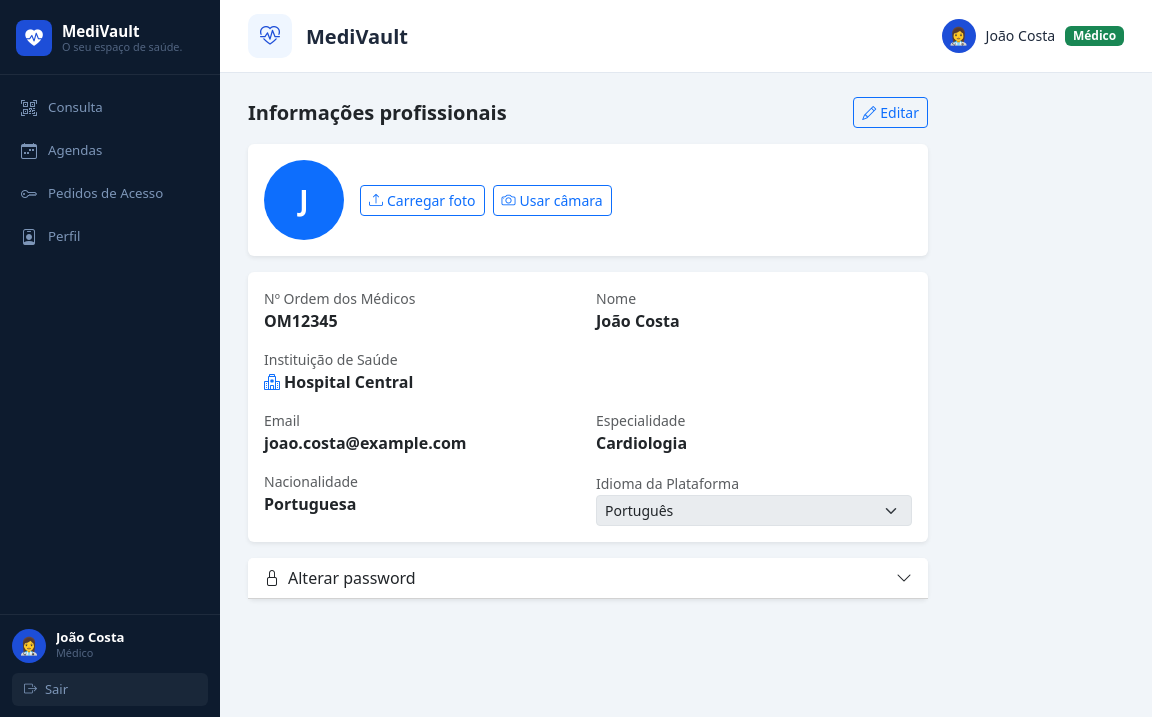
Test: DoctorProfilePage › logs the doctor out shortly after a successful password change
Expected: the text "Hospital Central" is shown, x1=264 y1=370 x2=413 y2=394
Click the text "Alterar password" at (340, 578), box x1=264 y1=566 x2=416 y2=590
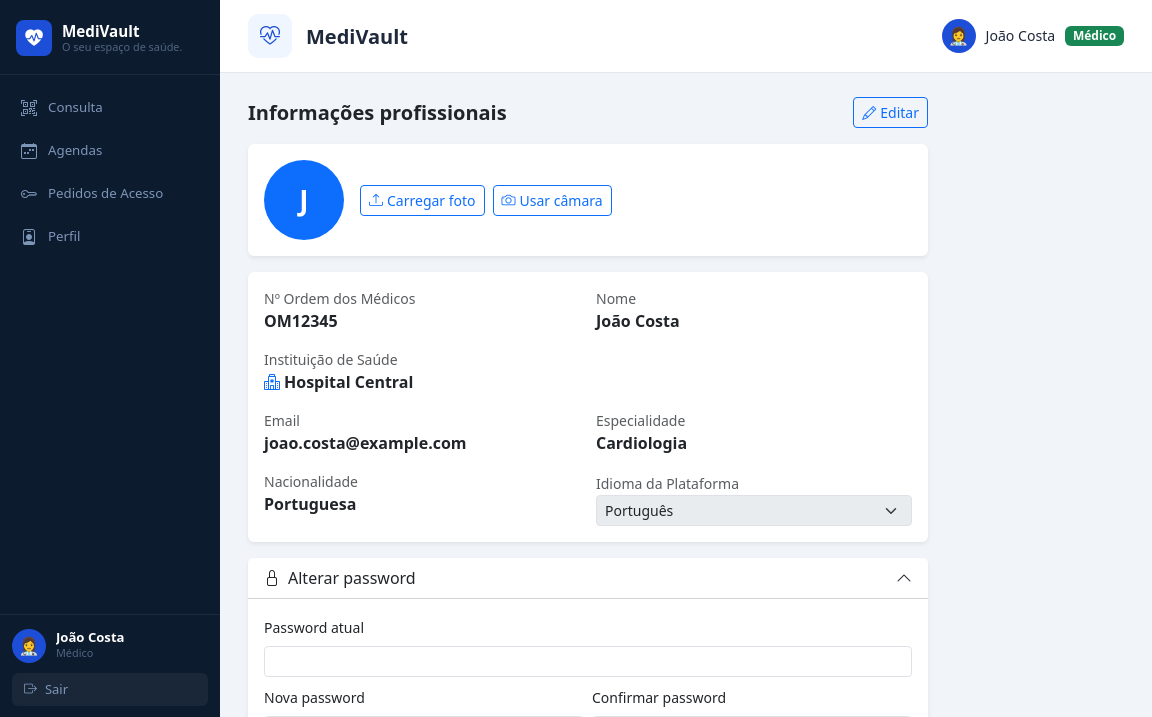
Type "old-password" into the password field below "Password atual" at (588, 662), box x1=264 y1=646 x2=912 y2=677
(page scrolled)
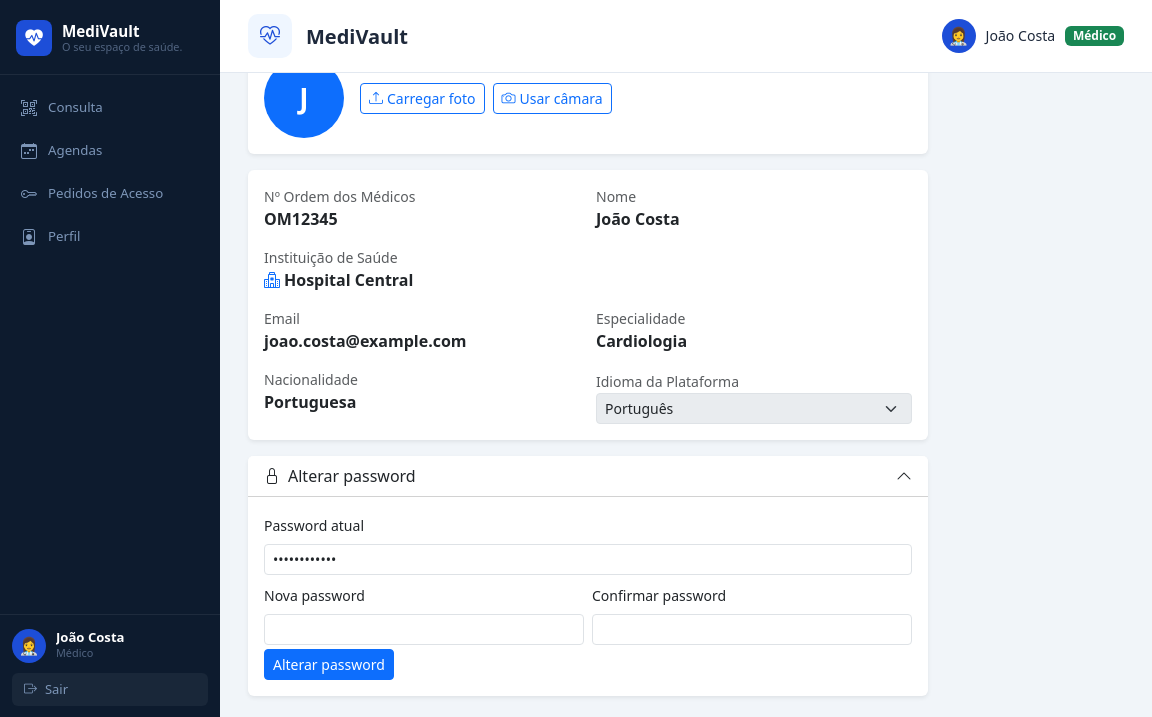
Type "new-password" into the password field below "Nova password" at (424, 630), box x1=264 y1=614 x2=584 y2=645
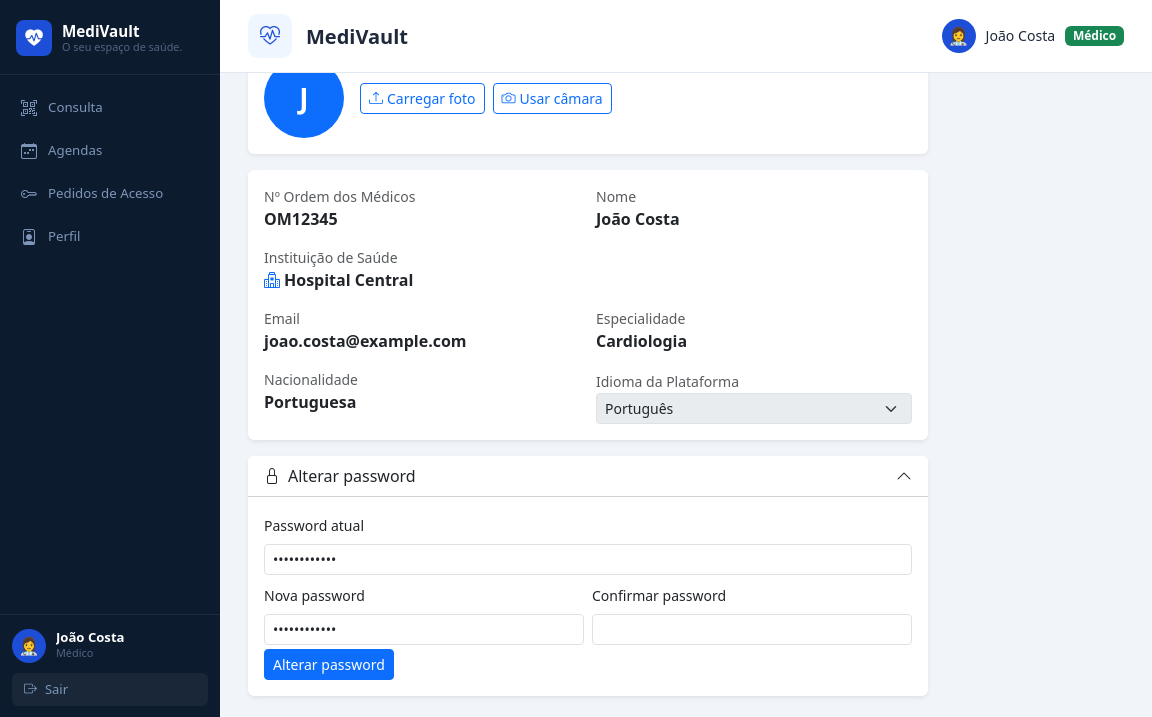
Type "new-password" into the password field below "Confirmar password" at (752, 630), box x1=592 y1=614 x2=912 y2=645
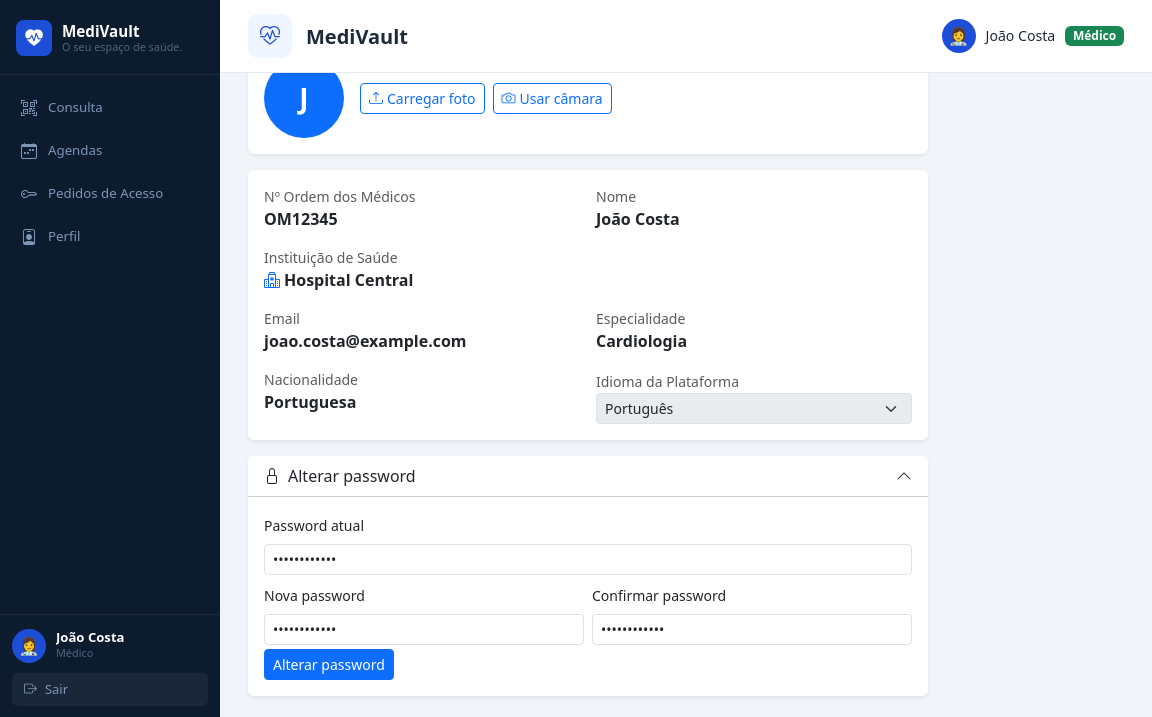
Click the button "Alterar password" at (329, 664), box x1=264 y1=649 x2=394 y2=680
(page scrolled)
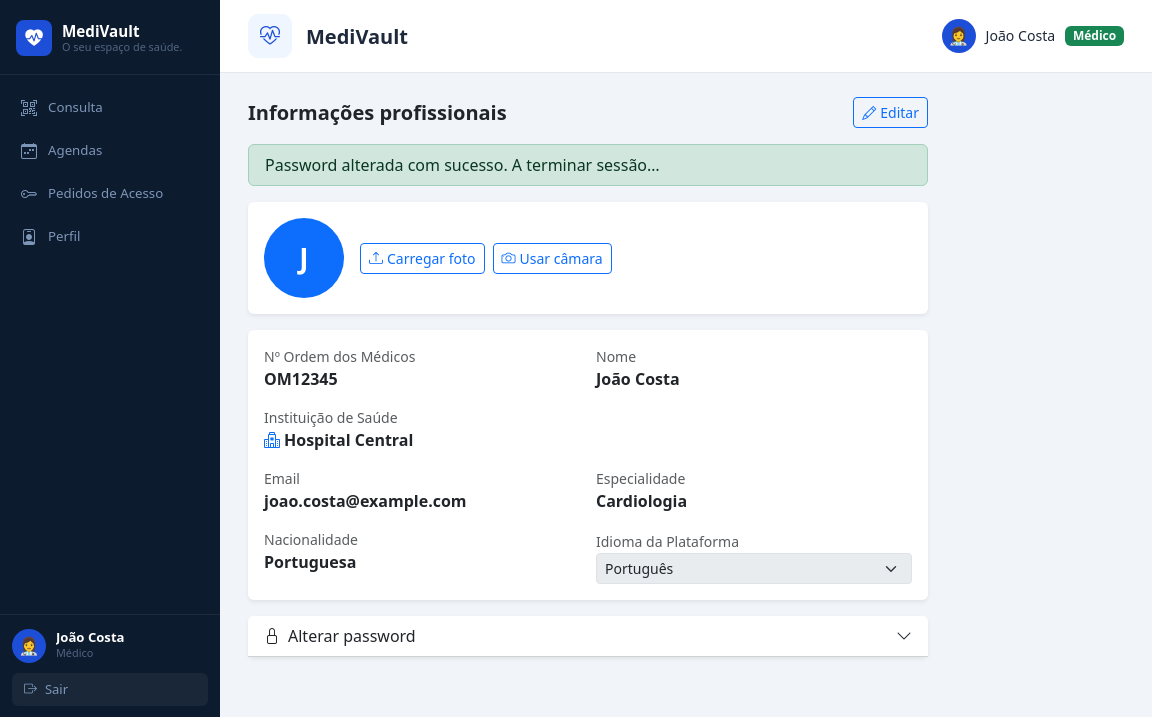
Now the text "Password alterada com sucesso. A terminar sessão…" is shown, box x1=248 y1=144 x2=928 y2=186
